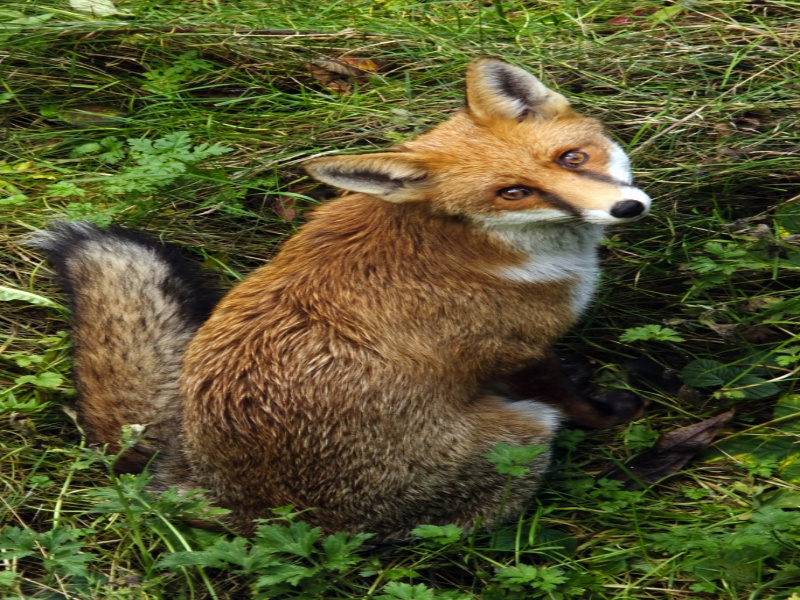fox: (46, 57, 654, 554)
